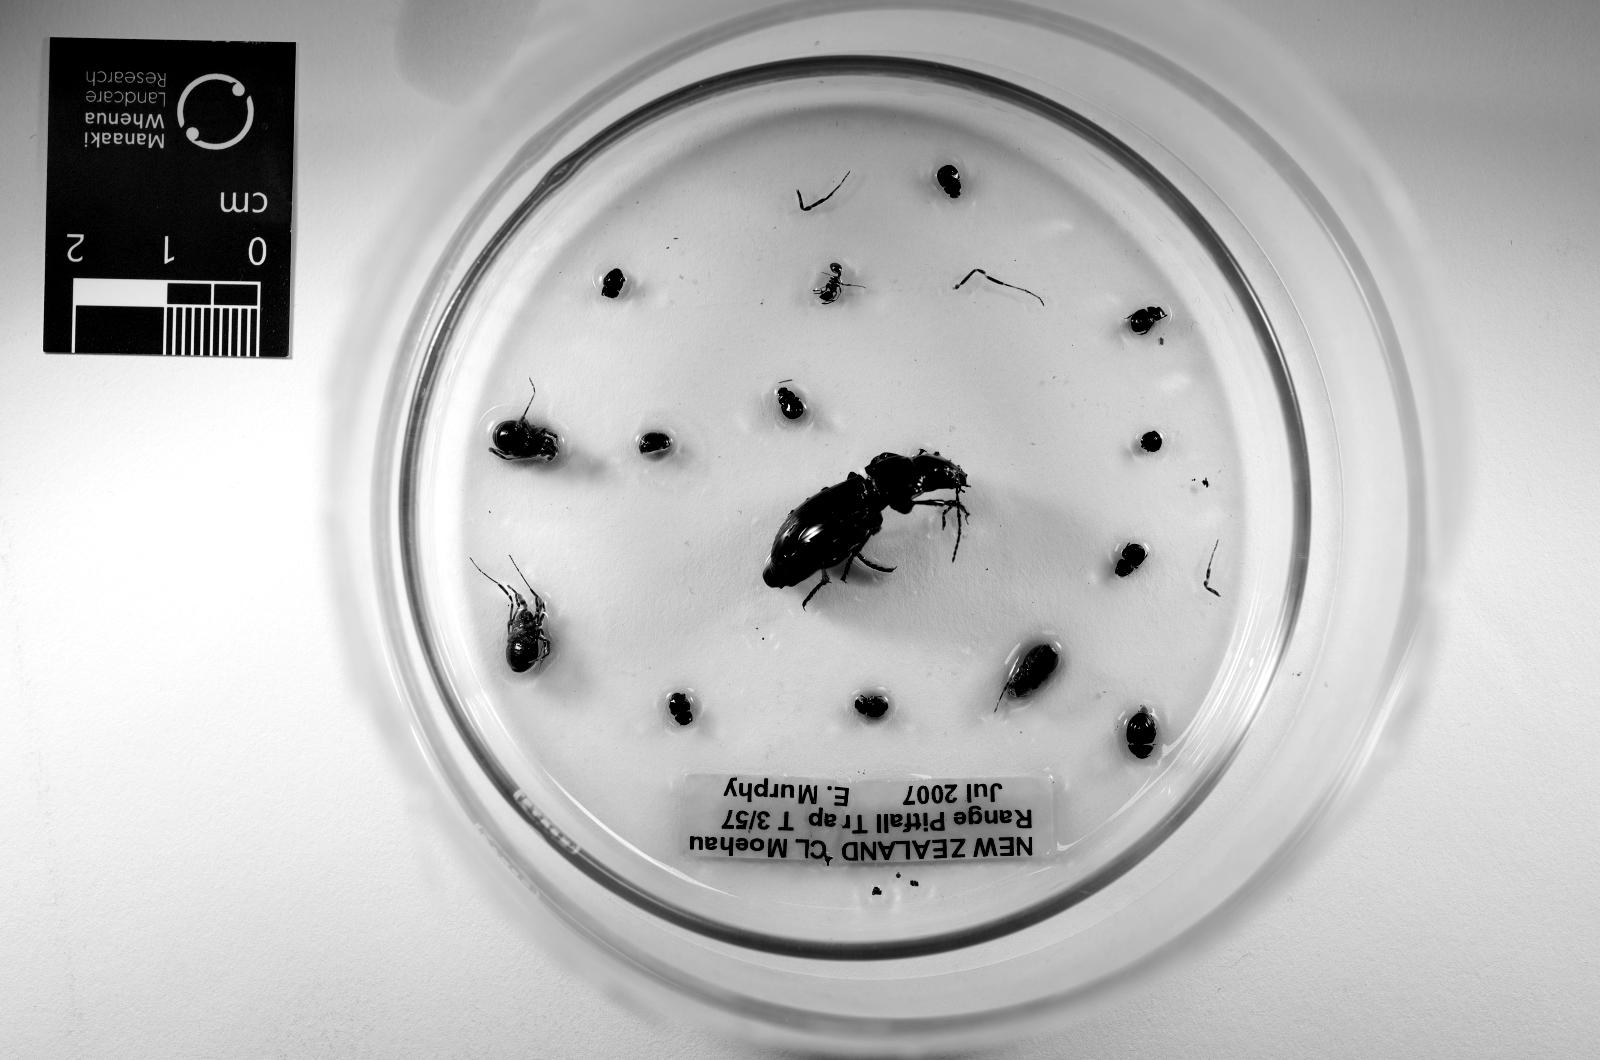carabidae: (763, 451, 969, 587)
coleoptera: (1125, 705, 1157, 761), (1128, 308, 1168, 336), (1115, 543, 1147, 577), (666, 692, 694, 726), (600, 267, 626, 298), (778, 388, 803, 419), (853, 696, 887, 717), (938, 164, 959, 199), (637, 432, 672, 453)
formicidae: (816, 260, 860, 304)
opiliones: (497, 584, 550, 674), (1003, 642, 1060, 699), (491, 416, 559, 459)
